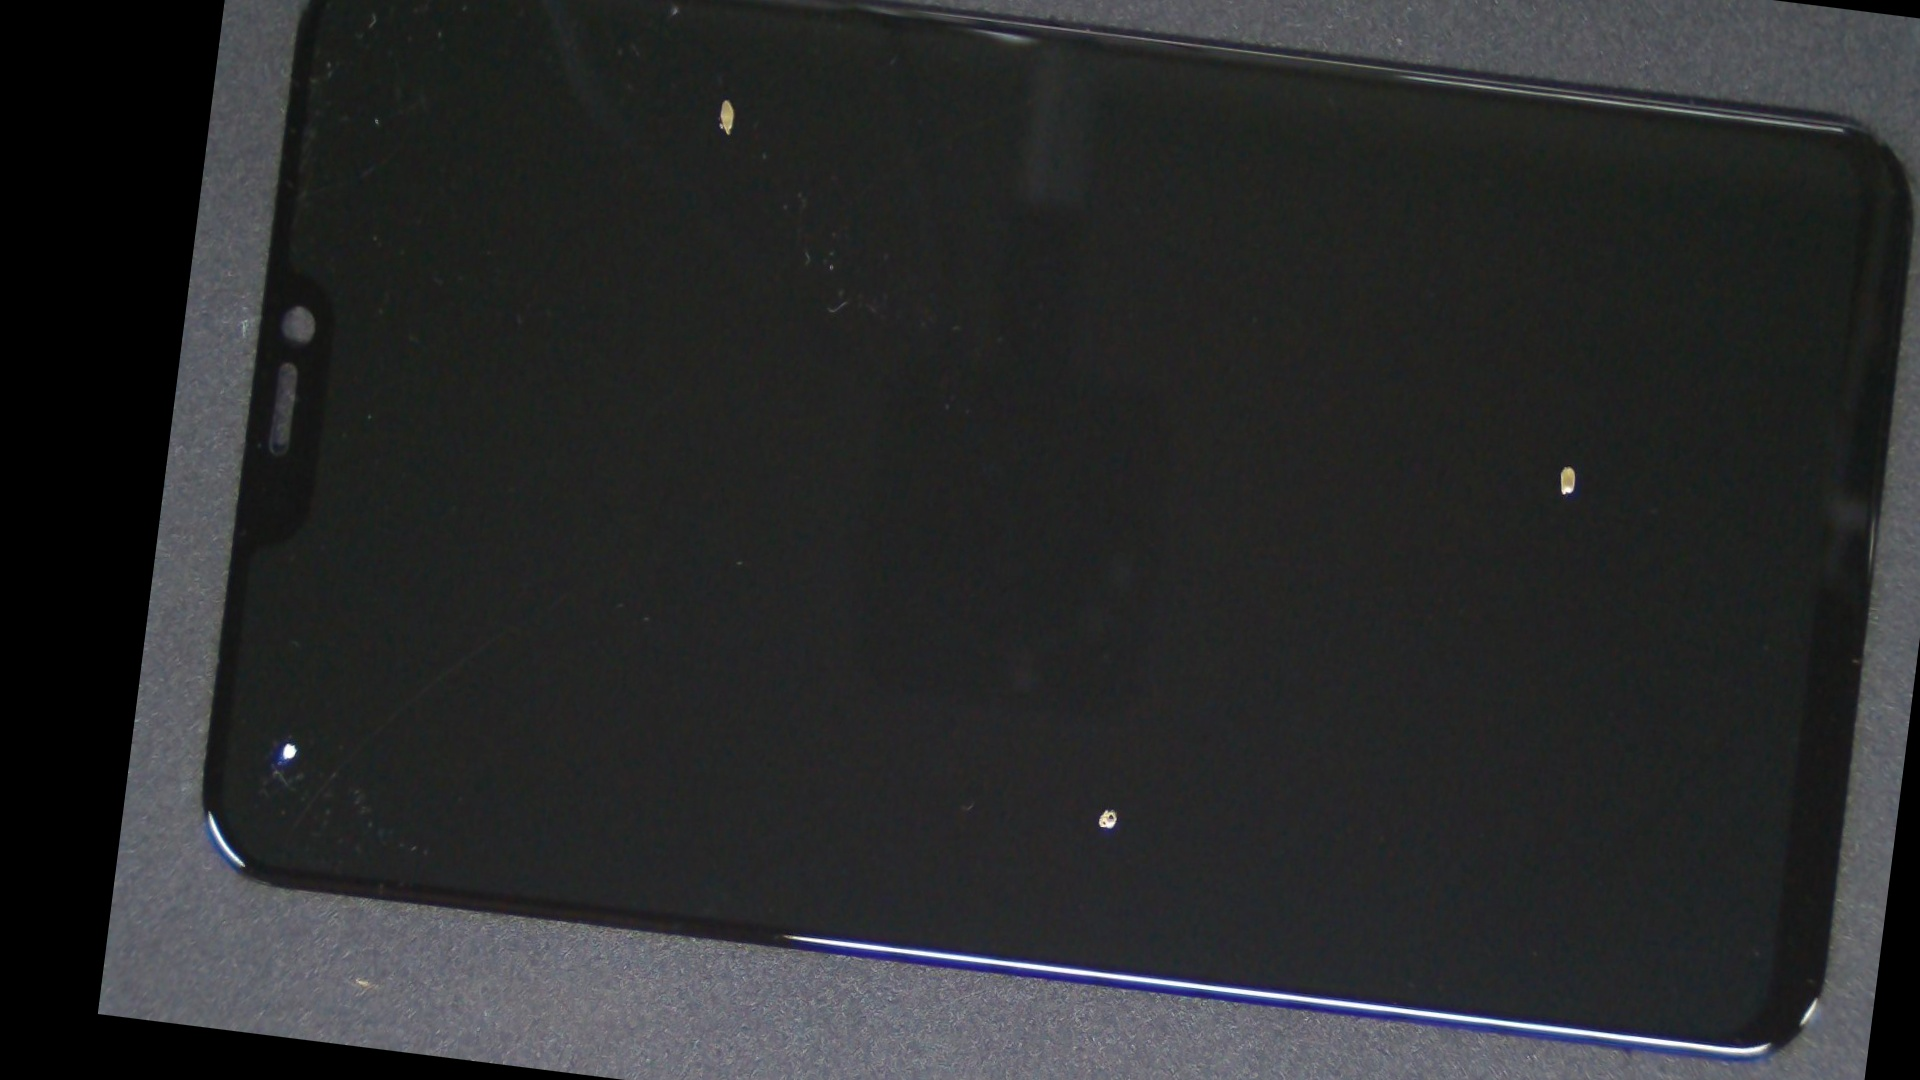oil: (585, 309, 1655, 1080), (849, 136, 1920, 752), (173, 274, 417, 1042), (460, 0, 994, 241)
